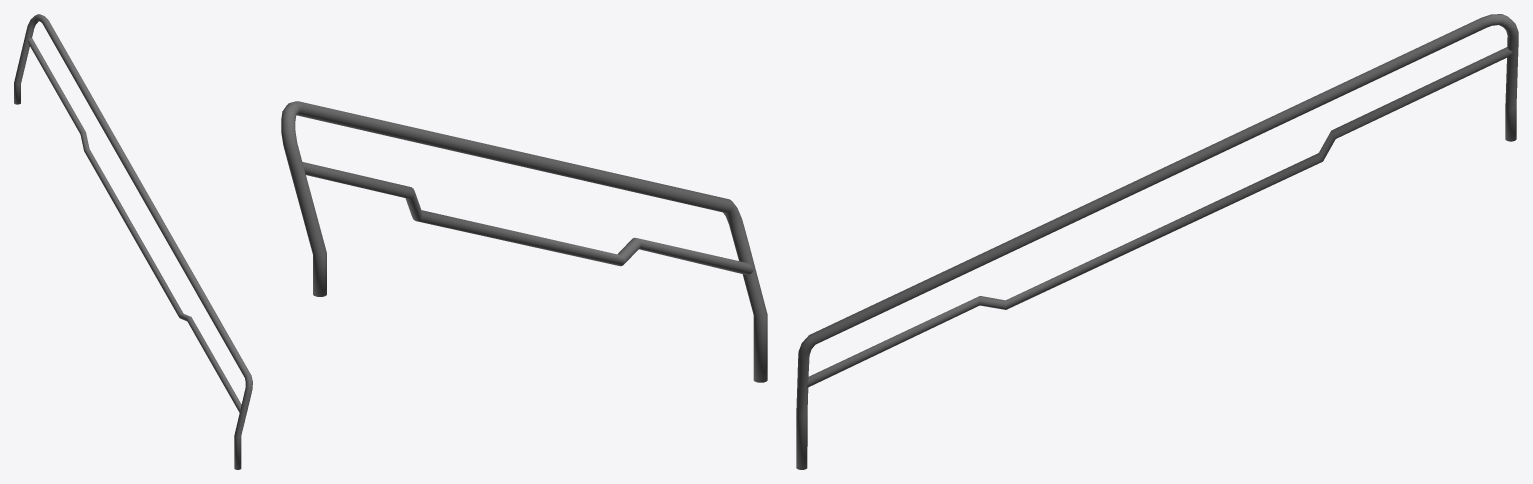
The model's file is prop_rail_incline_long_r.glb.
3 renders of one model, left to right at view 1: azimuth 30°, elevation 25°; view 2: azimuth 150°, elevation 25°; view 3: azimuth 270°, elevation 25°, orthographic. The views are drawn at different scales.
Visible parts, largest first — view 1: Prop_Rail_Incline_Long_R; view 2: Prop_Rail_Incline_Long_R; view 3: Prop_Rail_Incline_Long_R.
Boxes of the visible parts, x1,y1,x2,y2 form: Prop_Rail_Incline_Long_R: [14, 14, 252, 469]; Prop_Rail_Incline_Long_R: [281, 101, 767, 382]; Prop_Rail_Incline_Long_R: [796, 14, 1518, 469].
Size of the model in its own units: 0.2545 by 2.72 by 3.8.
1 material, 1 textured.
